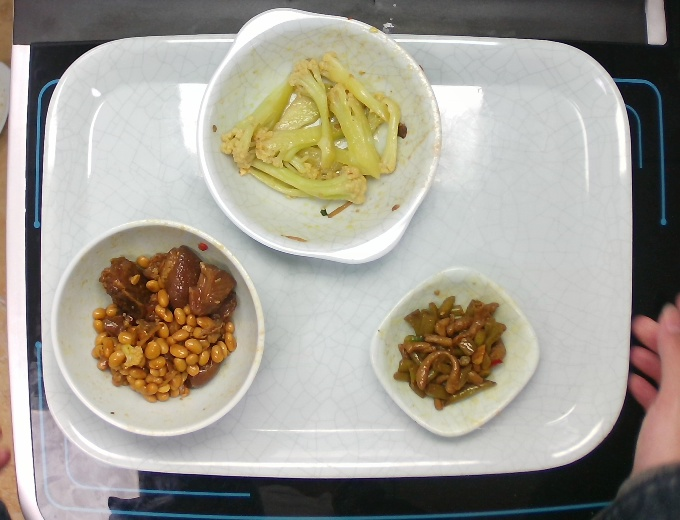JYsf-Fan_Wan: (42, 215, 271, 444)
JYsf-Shuang_Er_Wan: (197, 5, 446, 269)
JYsf-Si_Fang_Die: (364, 266, 542, 442)
